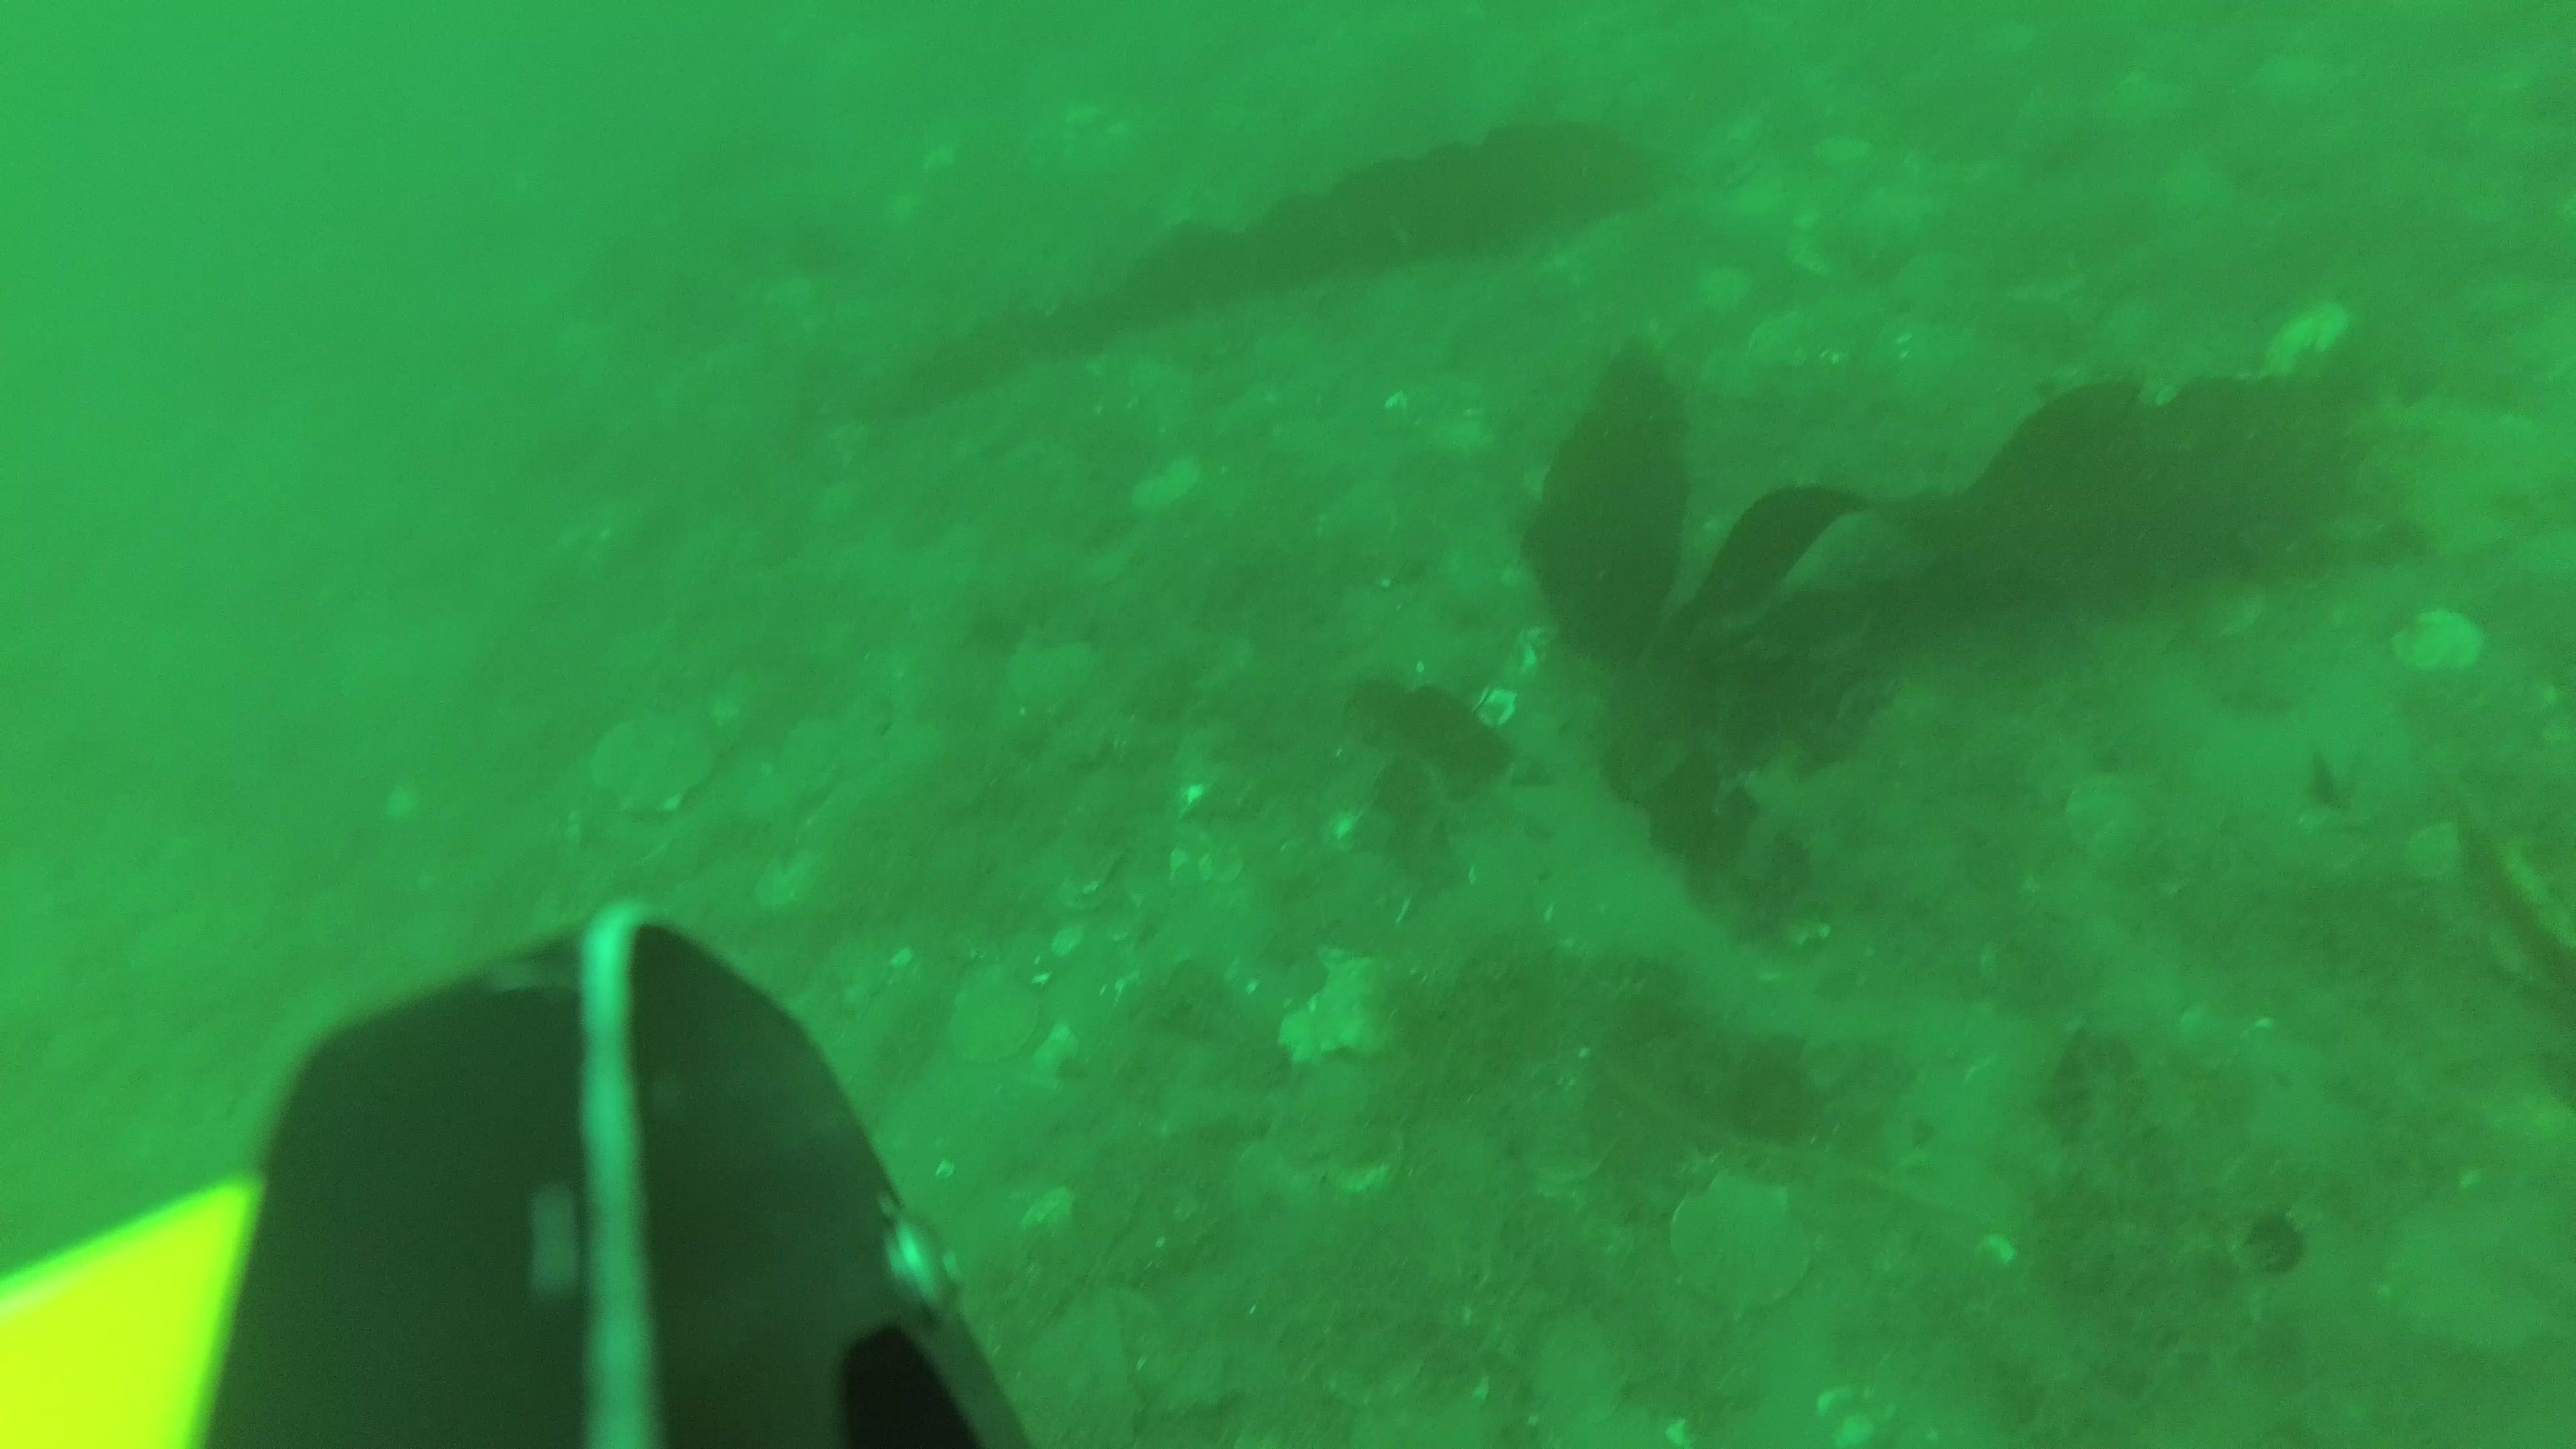scallop: (1679, 1166, 1821, 1315), (593, 720, 718, 832), (941, 975, 1046, 1065), (2065, 764, 2150, 865), (2259, 304, 2351, 393), (2392, 610, 2491, 686)
